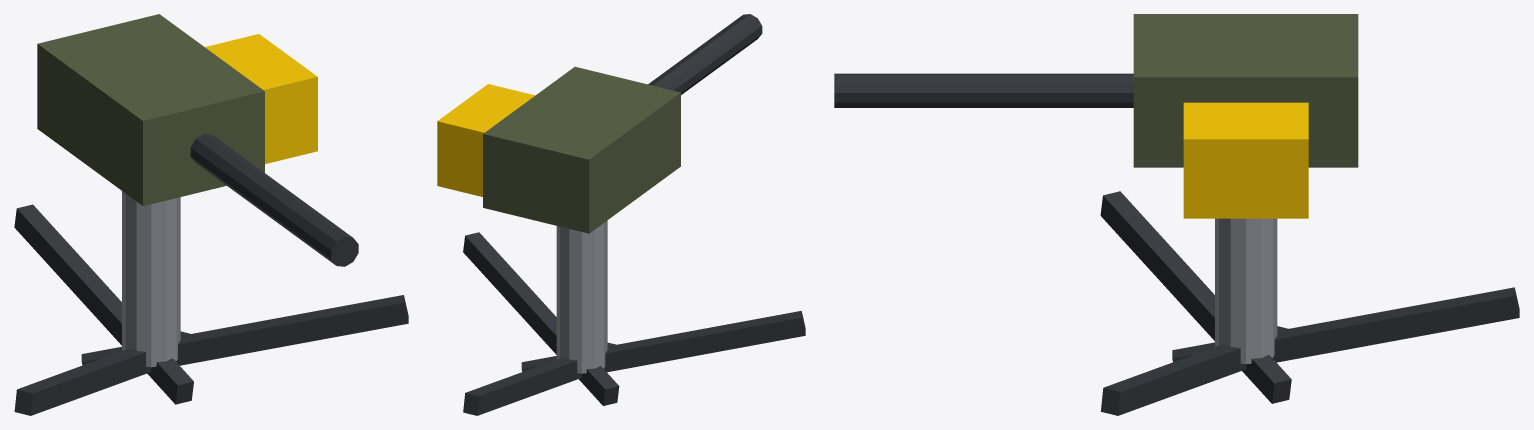
The model's file is Turret.fbx.
3 views of the same model, side by side, from view 1: azimuth 30°, elevation 25°; view 2: azimuth 150°, elevation 25°; view 3: azimuth 270°, elevation 25° (orthographic). The views are drawn at different scales.
Visible parts, largest first — view 1: Turret_Receiver, Turret_Mast, Turret_Leg.001, Turret_Ammo, Turret_Barrel, Turret_Leg, Turret_Leg.002; view 2: Turret_Receiver, Turret_Mast, Turret_Leg.002, Turret_Ammo, Turret_Leg.001, Turret_Barrel, Turret_Leg; view 3: Turret_Receiver, Turret_Ammo, Turret_Barrel, Turret_Mast, Turret_Leg, Turret_Leg.002, Turret_Leg.001.
Part boxes in pixels (x1=…): Turret_Receiver: x1=37, y1=14, x2=264, y2=205; Turret_Mast: x1=122, y1=191, x2=180, y2=367; Turret_Leg.001: x1=81, y1=295, x2=408, y2=365; Turret_Ammo: x1=205, y1=34, x2=317, y2=163; Turret_Barrel: x1=190, y1=134, x2=358, y2=266; Turret_Leg: x1=14, y1=204, x2=193, y2=404; Turret_Leg.002: x1=14, y1=331, x2=190, y2=415; Turret_Receiver: x1=483, y1=66, x2=680, y2=233; Turret_Mast: x1=556, y1=220, x2=607, y2=373; Turret_Leg.002: x1=521, y1=311, x2=805, y2=372; Turret_Ammo: x1=437, y1=84, x2=535, y2=196; Turret_Leg.001: x1=463, y1=232, x2=619, y2=405; Turret_Barrel: x1=648, y1=14, x2=762, y2=94; Turret_Leg: x1=463, y1=342, x2=616, y2=415; Turret_Receiver: x1=1133, y1=14, x2=1358, y2=167; Turret_Ammo: x1=1183, y1=102, x2=1308, y2=218; Turret_Barrel: x1=834, y1=73, x2=1133, y2=107; Turret_Mast: x1=1215, y1=218, x2=1277, y2=364; Turret_Leg: x1=1172, y1=287, x2=1519, y2=362; Turret_Leg.002: x1=1100, y1=191, x2=1291, y2=403; Turret_Leg.001: x1=1101, y1=326, x2=1288, y2=415.
Size of the model in its own units: 388 by 293 by 549.
